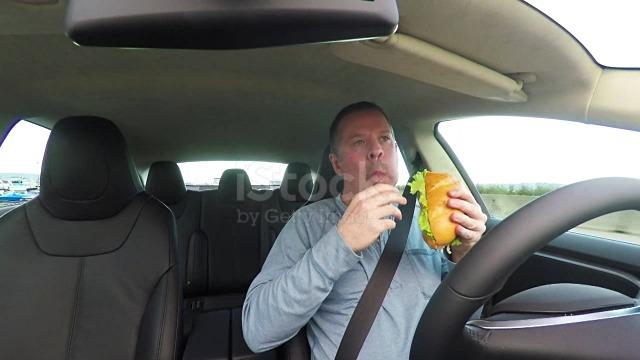Eating: (302, 84, 494, 257)
